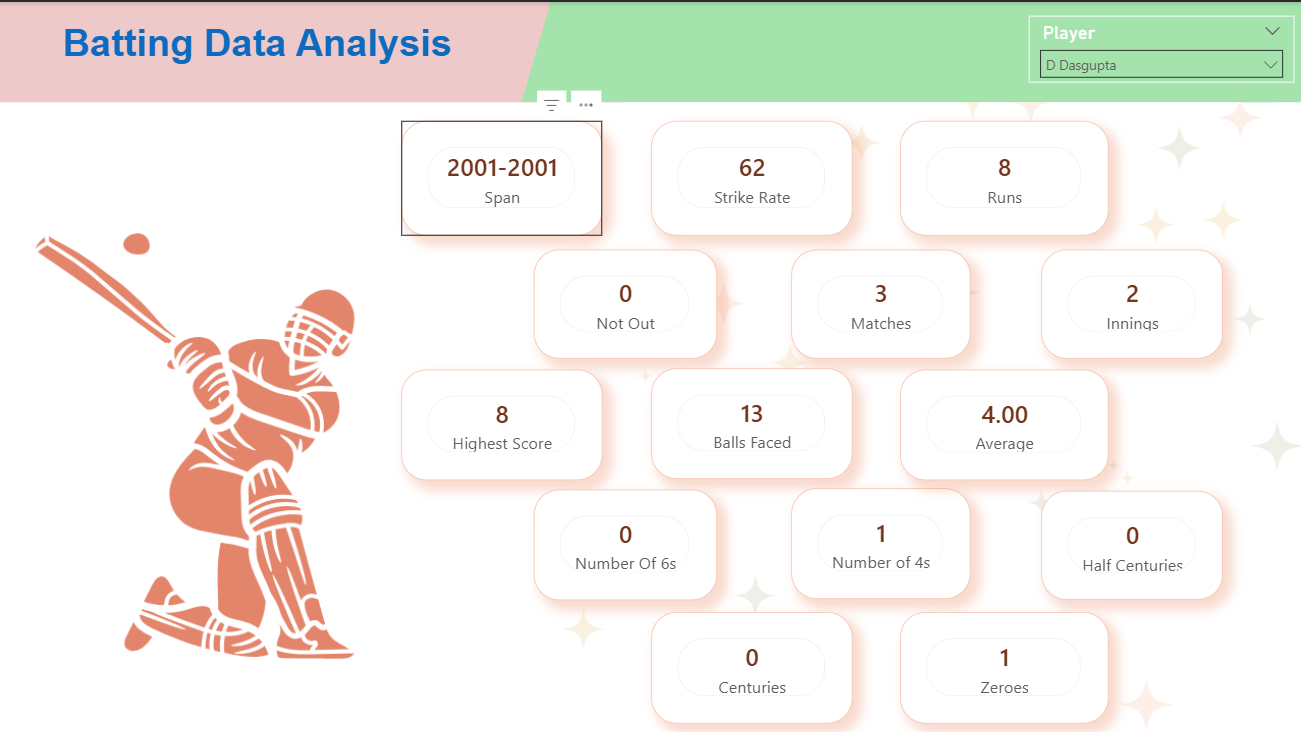

This screenshot's page, from the dashboard's own definition file:
{"tool":"powerbi","page":{"name":"Batting","canvas":[1280,720],"ordinal":0},"visuals":[{"type":"shape","box":[0,0,613.4,98.8],"z":0},{"type":"shape","box":[511.8,0,768.4,98.8],"z":1000},{"type":"shape","box":[1219.9,0,60.4,98.8],"z":2000},{"type":"textbox","box":[28.8,13.7,448.7,85.1],"z":3000},{"type":"slicer","fields":{"Values":["Batting IND VS SA.Player"]},"box":[1010,13.7,260.7,65.9],"z":4000},{"type":"cardVisual","fields":{"Data":["Min(Batting IND VS SA.Span)"]},"box":[393.8,116.6,197.6,112.5],"z":5000},{"type":"cardVisual","fields":{"Data":["Sum(Batting IND VS SA.Mat)"]},"box":[776.7,242.9,175.6,107],"z":6000},{"type":"cardVisual","fields":{"Data":["Sum(Batting IND VS SA.NO)"]},"box":[524.2,242.9,179.8,107],"z":7000},{"type":"cardVisual","fields":{"Data":["Sum(Batting IND VS SA.Runs)"]},"box":[883.7,116.6,204.5,112.5],"z":8000},{"type":"cardVisual","fields":{"Data":["Sum(Batting IND VS SA.SR)"]},"box":[639.5,116.6,197.6,112.5],"z":9000},{"type":"cardVisual","fields":{"Data":["Sum(Batting IND VS SA.BF)"]},"box":[639.5,359.5,197.6,108.4],"z":10000},{"type":"cardVisual","fields":{"Data":["Min(Batting IND VS SA.HS)"]},"box":[393.8,360.9,197.6,108.4],"z":11000},{"type":"cardVisual","fields":{"Data":["Sum(Batting IND VS SA.Inns)"]},"box":[1022.3,242.9,178.4,107],"z":12000},{"type":"cardVisual","fields":{"Data":["Sum(Batting IND VS SA.4s)"]},"box":[776.7,477.5,175.6,108.4],"z":13000},{"type":"cardVisual","fields":{"Data":["Sum(Batting IND VS SA.6s)"]},"box":[524.2,478.9,179.8,108.4],"z":14000},{"type":"cardVisual","fields":{"Data":["Avg(Batting IND VS SA.Ave)"]},"box":[883.7,360.9,204.5,108.4],"z":15000},{"type":"cardVisual","fields":{"Data":["Sum(Batting IND VS SA.50)"]},"box":[1022.3,480.3,178.4,107],"z":16000},{"type":"cardVisual","fields":{"Data":["Sum(Batting IND VS SA.100)"]},"box":[639.5,598.3,197.6,109.8],"z":16001},{"type":"cardVisual","fields":{"Data":["Sum(Batting IND VS SA.0)"]},"box":[883.7,598.3,204.5,109.8],"z":16002}]}

Visuals, with their boxes in screenshot pixels (x1, y1, x2, y2), scaled from the page's 1280x720 canvas onto the 1301x732 screenshot:
shape: select_region(0, 0, 623, 100)
shape: select_region(520, 0, 1300, 100)
shape: select_region(1240, 0, 1300, 100)
textbox: select_region(29, 14, 485, 100)
slicer - Batting IND VS SA.Player: select_region(1027, 14, 1292, 81)
cardVisual - Min(Batting IND VS SA.Span): select_region(400, 119, 601, 233)
cardVisual - Sum(Batting IND VS SA.Mat): select_region(789, 247, 968, 356)
cardVisual - Sum(Batting IND VS SA.NO): select_region(533, 247, 716, 356)
cardVisual - Sum(Batting IND VS SA.Runs): select_region(898, 119, 1106, 233)
cardVisual - Sum(Batting IND VS SA.SR): select_region(650, 119, 851, 233)
cardVisual - Sum(Batting IND VS SA.BF): select_region(650, 365, 851, 476)
cardVisual - Min(Batting IND VS SA.HS): select_region(400, 367, 601, 477)
cardVisual - Sum(Batting IND VS SA.Inns): select_region(1039, 247, 1220, 356)
cardVisual - Sum(Batting IND VS SA.4s): select_region(789, 485, 968, 596)
cardVisual - Sum(Batting IND VS SA.6s): select_region(533, 487, 716, 597)
cardVisual - Avg(Batting IND VS SA.Ave): select_region(898, 367, 1106, 477)
cardVisual - Sum(Batting IND VS SA.50): select_region(1039, 488, 1220, 597)
cardVisual - Sum(Batting IND VS SA.100): select_region(650, 608, 851, 720)
cardVisual - Sum(Batting IND VS SA.0): select_region(898, 608, 1106, 720)
